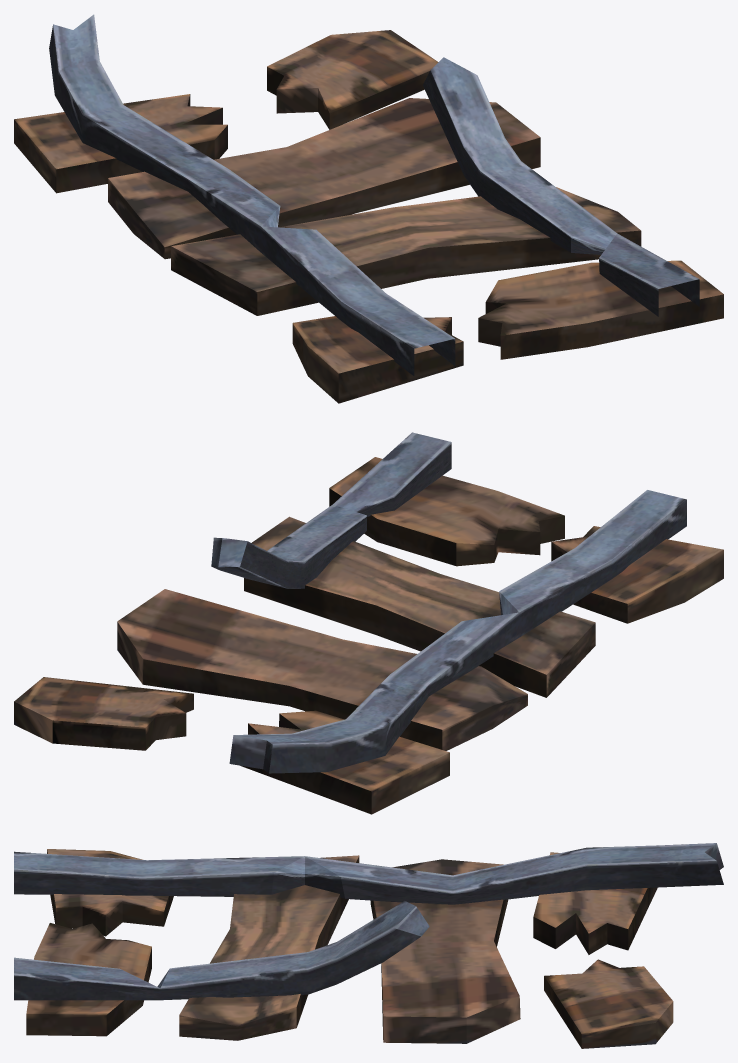
File: mine_track_end_broken.fbx
3 views of the same model, one above another, from view 1: azimuth 30°, elevation 25°; view 2: azimuth 150°, elevation 25°; view 3: azimuth 270°, elevation 25° (orthographic). The views are drawn at different scales.
Parts seen in each view (by area): view 1: mine_rails/mine_rails01; view 2: mine_rails/mine_rails01; view 3: mine_rails/mine_rails01.
Part boxes in pixels (left/top/right/bottom): mine_rails/mine_rails01: left=14, top=14, right=723, bottom=403; mine_rails/mine_rails01: left=14, top=432, right=723, bottom=814; mine_rails/mine_rails01: left=14, top=843, right=723, bottom=1048.
Bounding box in the file's own units: 1.9 × 0.5274 × 3.24.
